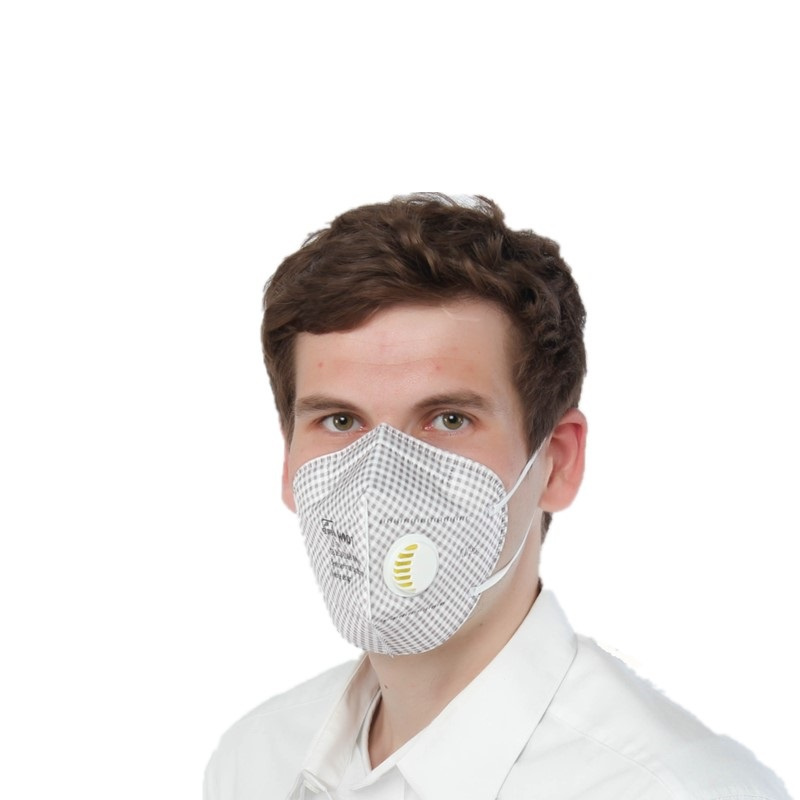face_mask: (289, 327, 515, 651)
